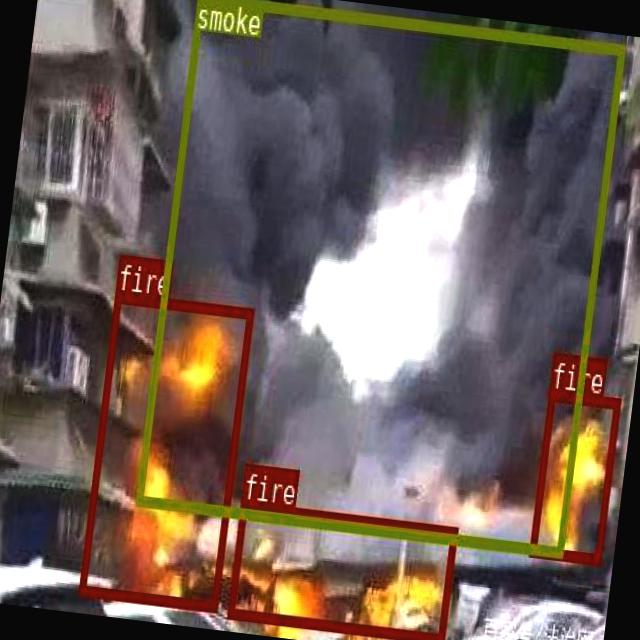fire: (76, 290, 252, 610), (225, 499, 456, 640), (528, 388, 620, 562)
smoke: (135, 0, 624, 555)
